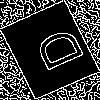D: (24, 25, 86, 78)
